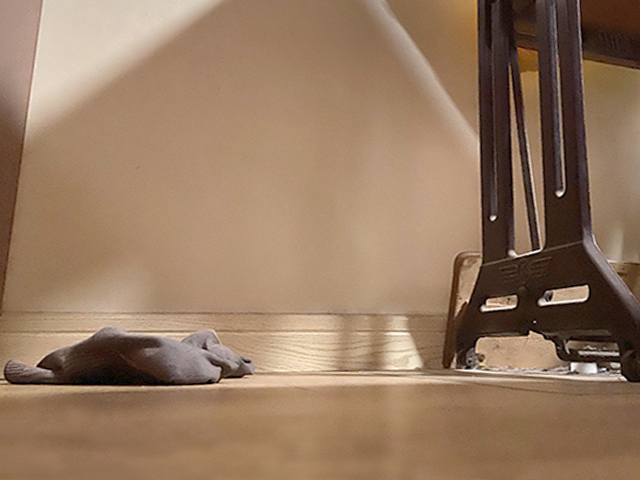socks: (2, 327, 256, 386)
